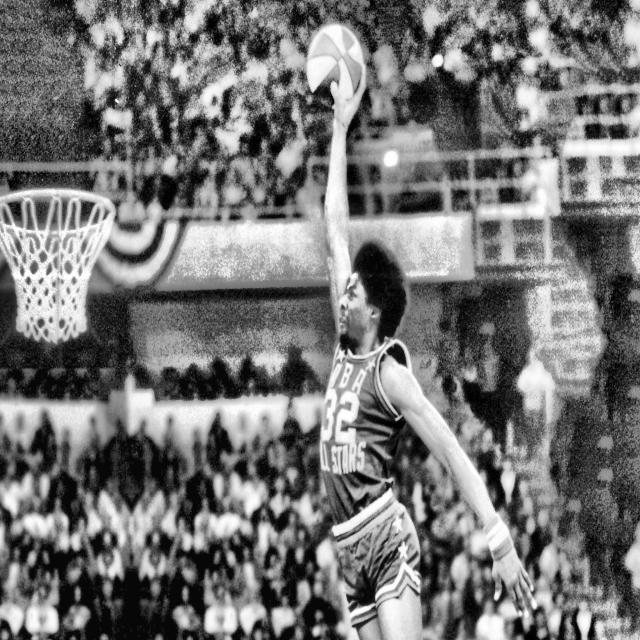Basketball: (308, 24, 363, 108)
